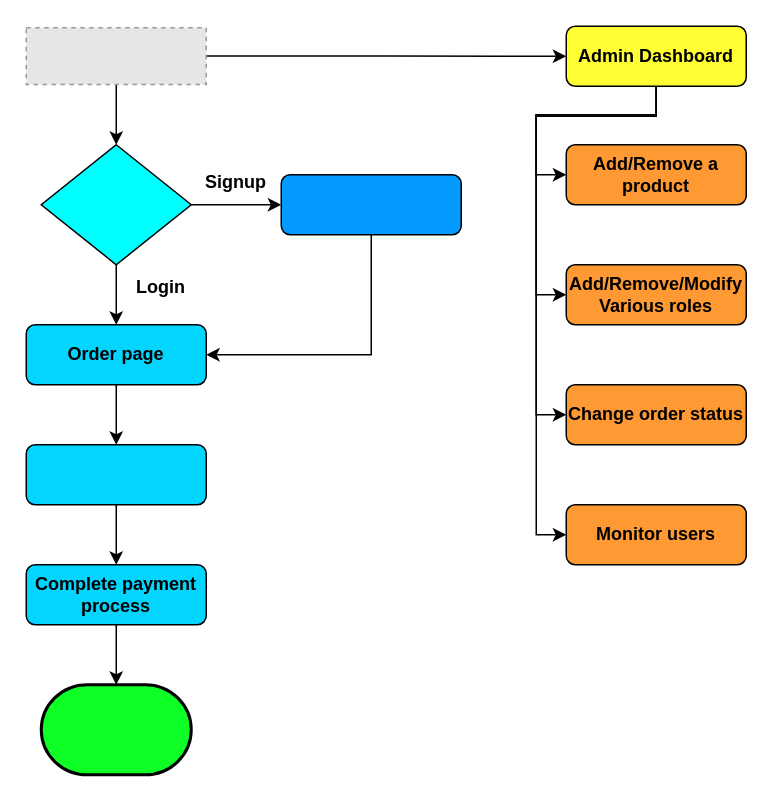
The diagram is 773 pixels wide and 803 high, and some of its shapes have lost their labels. Grey dashed boxes stand in for pictures. The shapes that lost their labels are listed below. From the top down, each one's centre as x and y in pixels, then its label:
At point 115,204: "Customer login/signup".
At point 370,204: "Register".
At point 115,474: "Choose order".
At point 115,729: "Order placed successfully".
